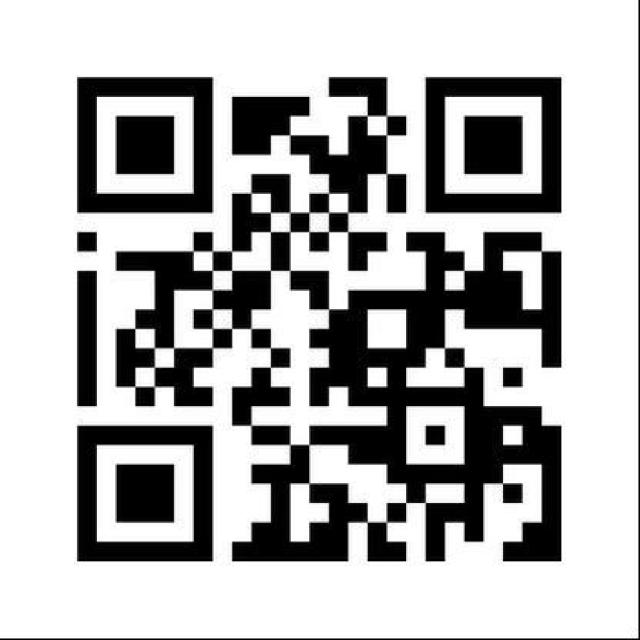QRCode: (68, 63, 574, 574)
